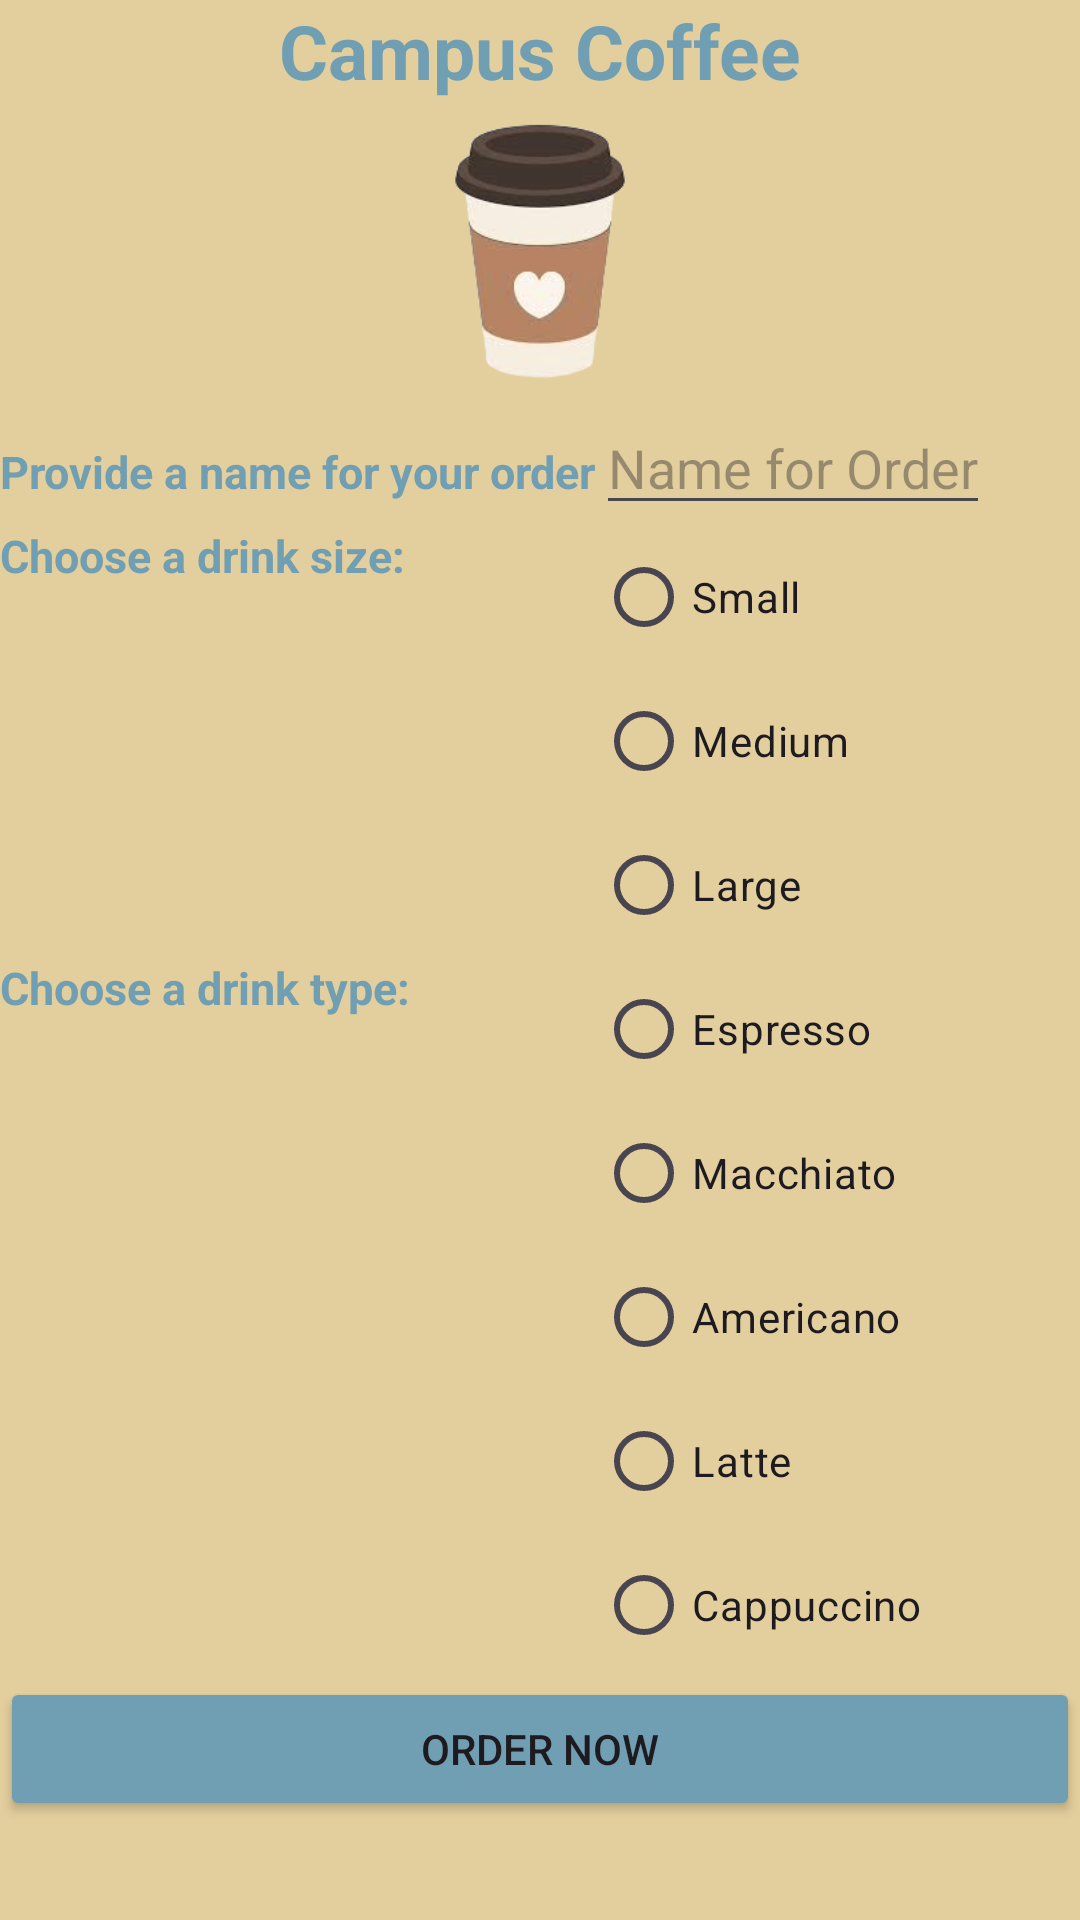

Icon click points for this 1080 x 1920 phone screenshot, format point (x, y):
coffee cup image: point (540, 251)
